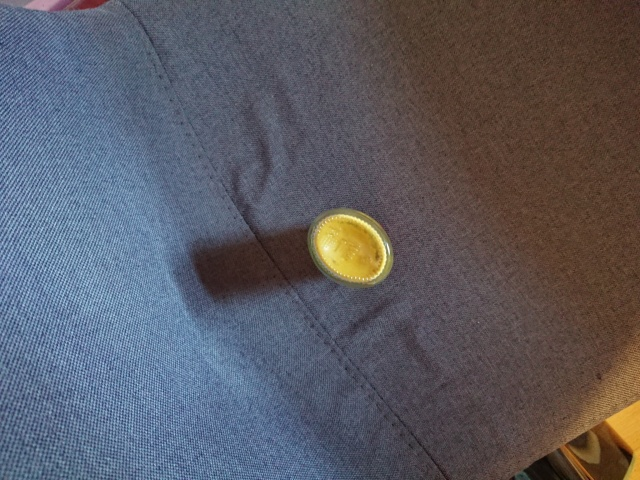Kotanyi Curry Spices Mix 70g: (305, 205, 395, 291)
